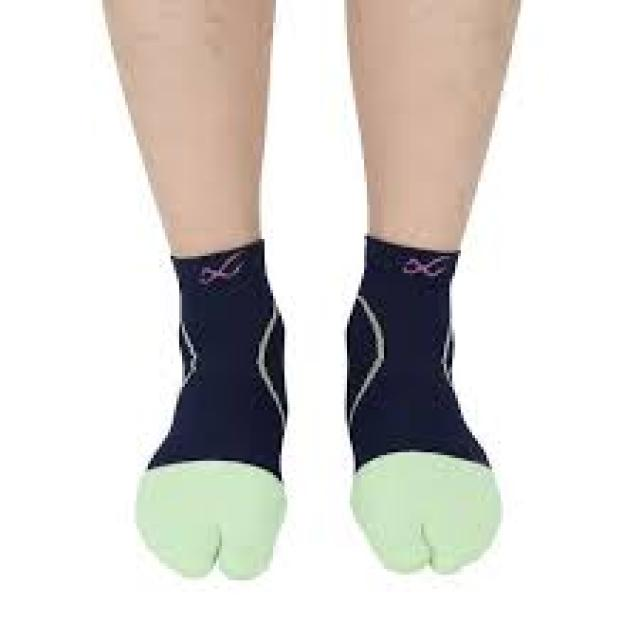sock: (344, 233, 501, 575), (134, 236, 287, 580)
